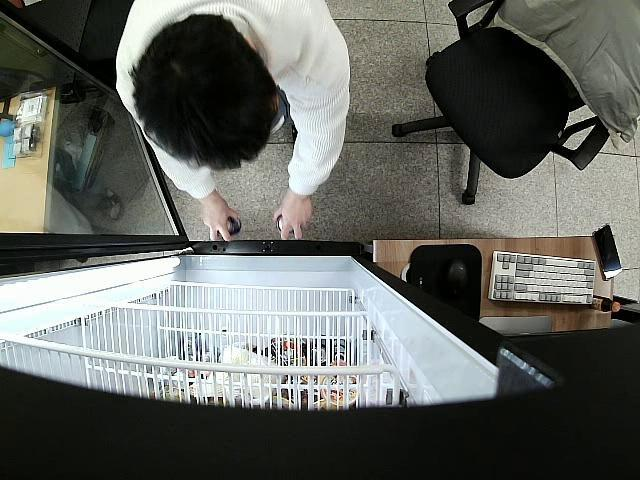14_welchsGrape: (274, 216, 297, 238), (218, 216, 242, 237)
